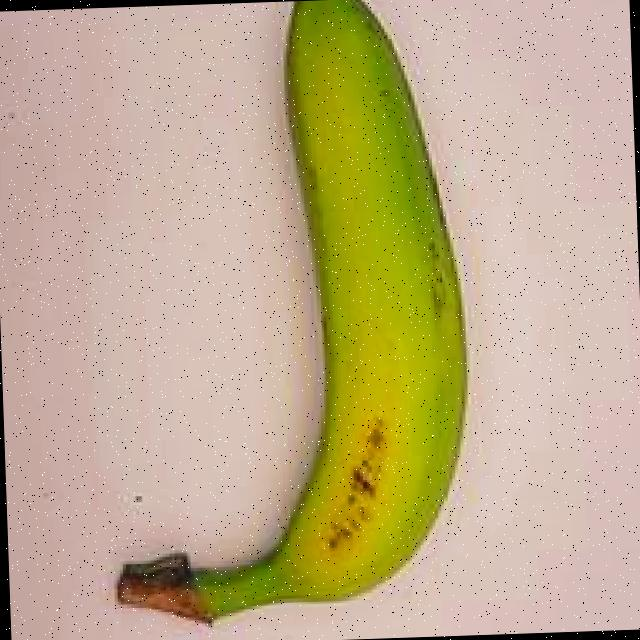Unripe: (69, 0, 494, 640)
